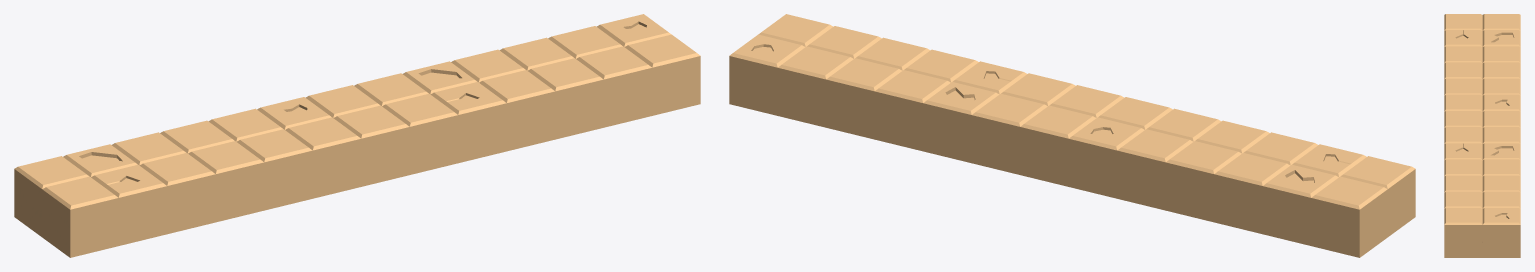
Rendered from 13x2 Floor.fbx.
3 renders of one model, left to right at view 1: azimuth 30°, elevation 25°; view 2: azimuth 150°, elevation 25°; view 3: azimuth 270°, elevation 25°, orthographic. The views are drawn at different scales.
Visible parts, largest first — view 1: Cube; view 2: Cube; view 3: Cube.
Part boxes in pixels (x1=…): Cube: x1=14, y1=14, x2=700, y2=257; Cube: x1=729, y1=14, x2=1415, y2=257; Cube: x1=1444, y1=14, x2=1520, y2=257.
Size of the model in its own units: 1300 by 100 by 200.
